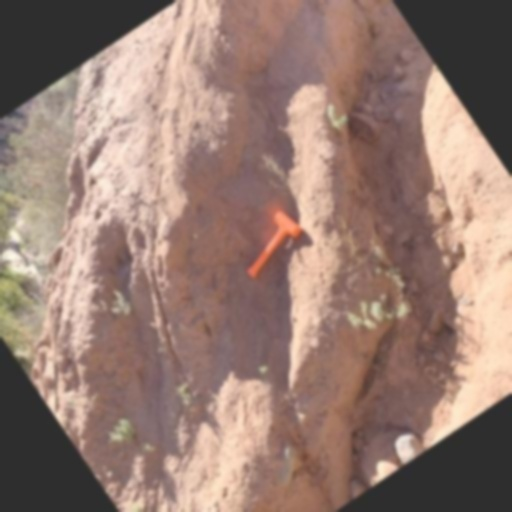mallet: (229, 206, 310, 280)
